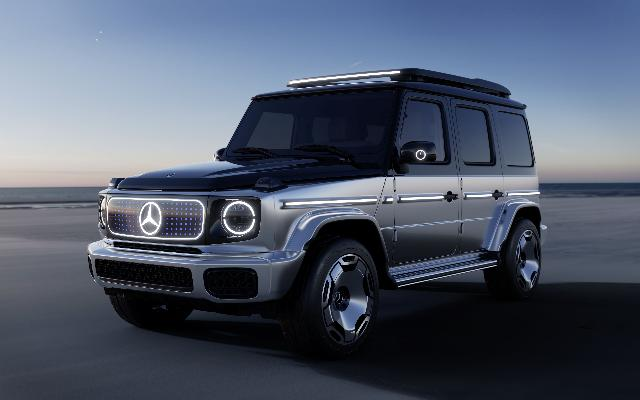benz: (86, 67, 548, 351)
